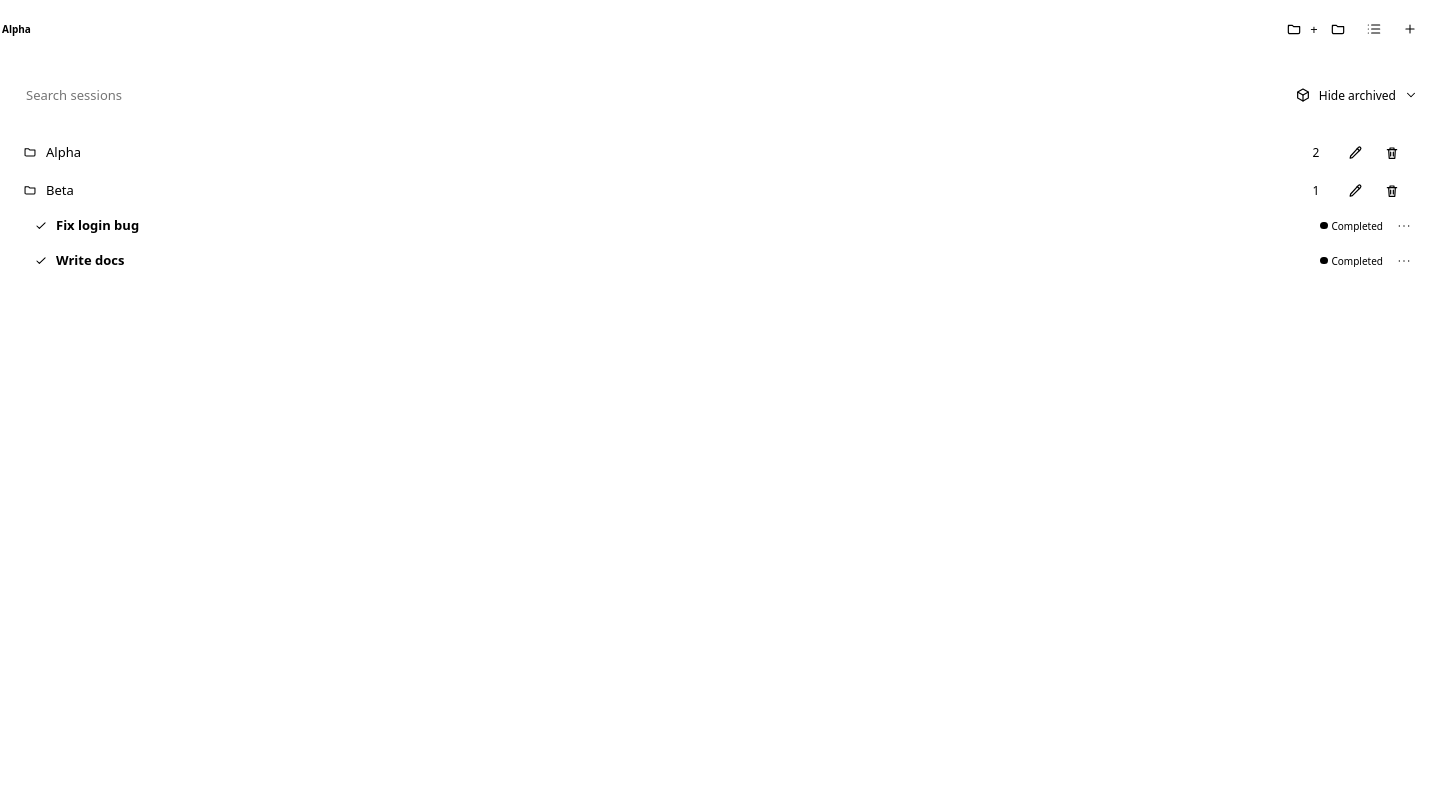
Scenario: SessionDrawer › reports an unavailable content search instead of an empty result set
In the search field named "Search sessions by title or content": x=645, y=95 [13, 77, 1278, 114], type "note"
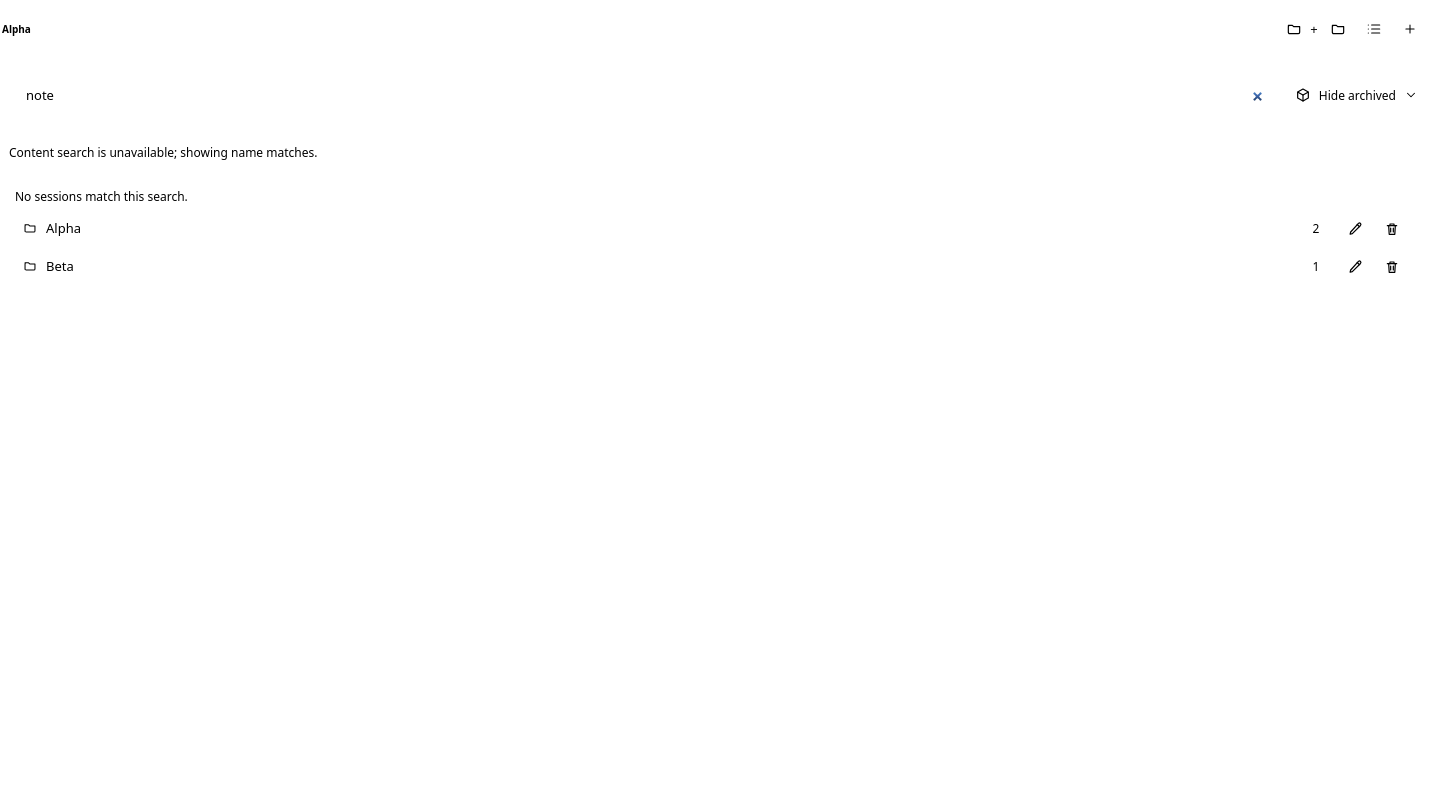
Check: the message shows "Content search is unavailable", box [9, 144, 317, 161]
